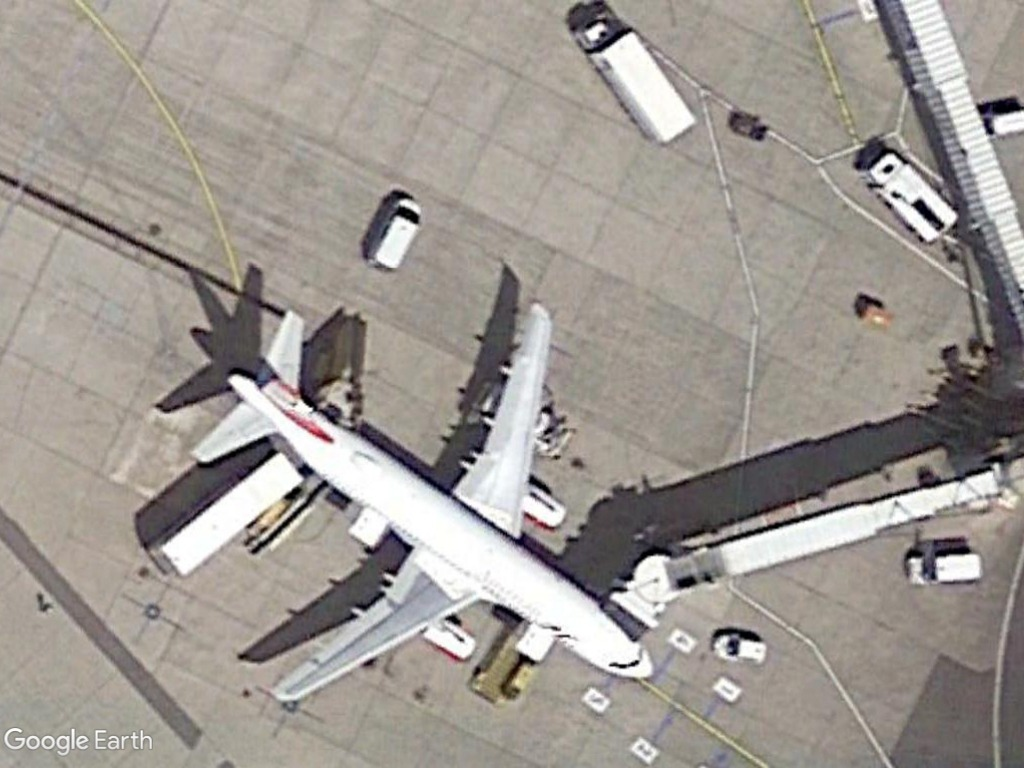airliner: (183, 300, 664, 706)
car: (710, 631, 770, 667)
truck: (862, 146, 960, 246)
van: (364, 192, 426, 275), (904, 548, 984, 591)
